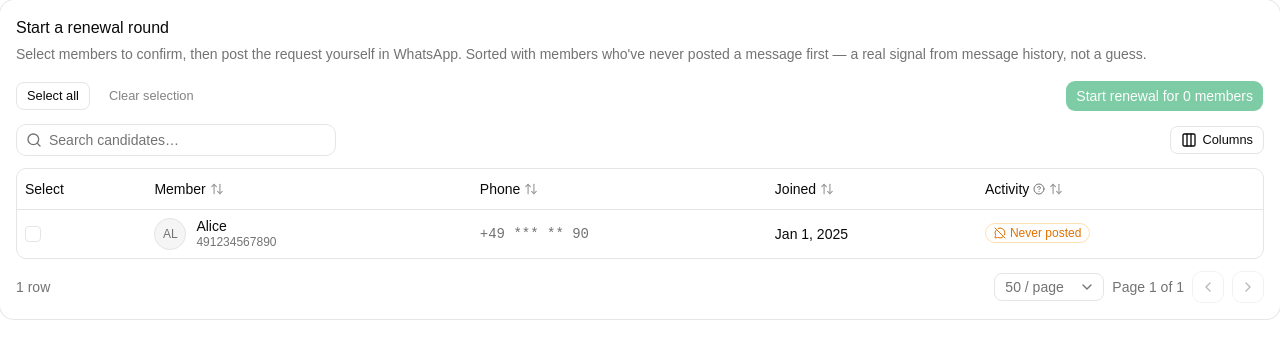
Test: StartRenewalSection › enables the Start renewal button for an owner once a member is selected
The image size is (1280, 337).
Click the button "Select all" at (53, 96), box [16,82,90,110]
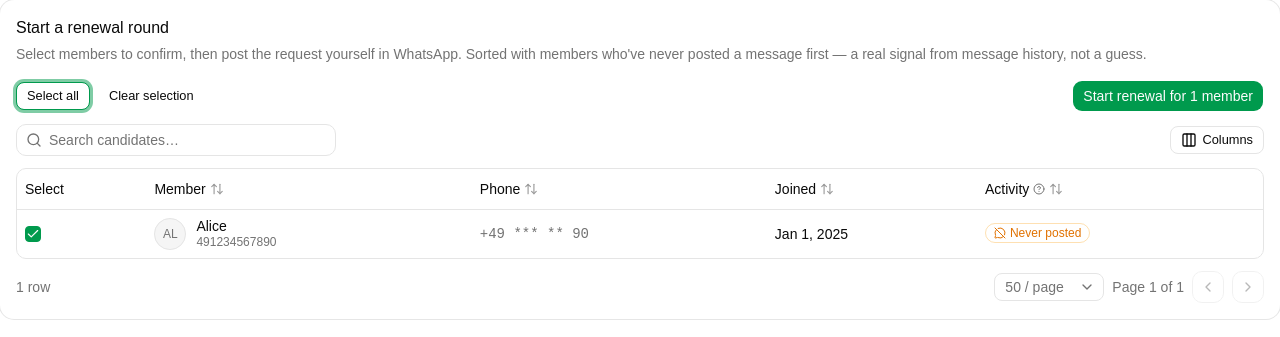
Now the button "Start renewal for 1 member" is enabled, box [1072,80,1264,112]
